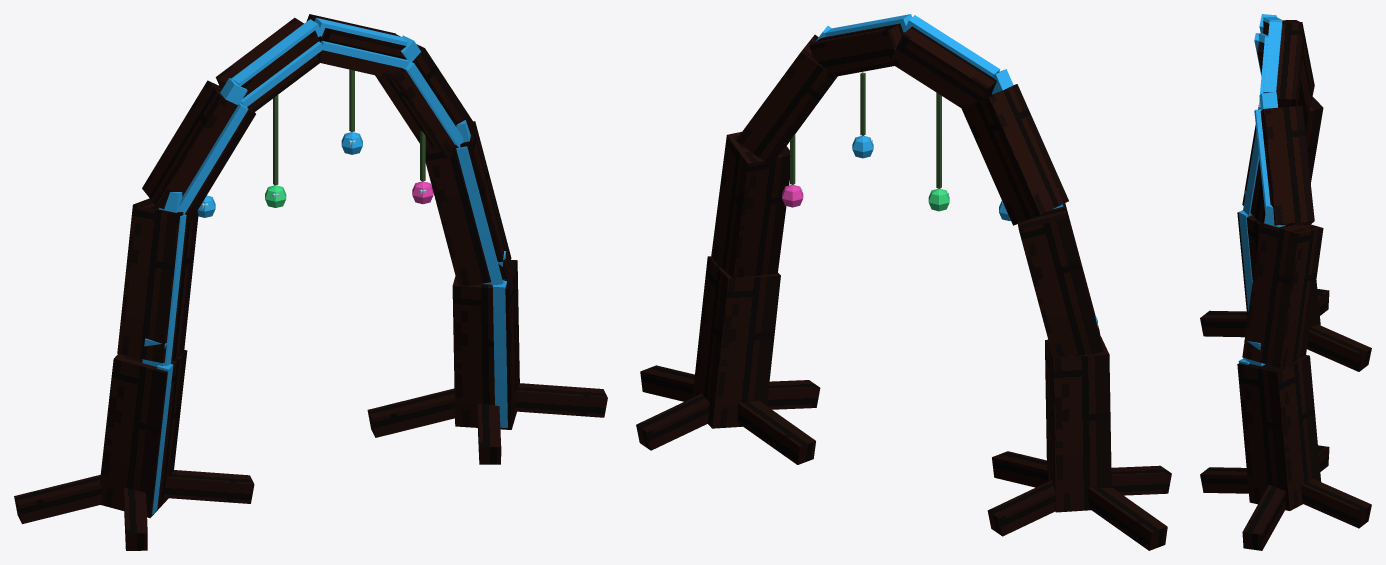
The model's file is glowroot_arch.glb.
3 renders of one model, left to right at view 1: azimuth 30°, elevation 25°; view 2: azimuth 150°, elevation 25°; view 3: azimuth 270°, elevation 25°, orthographic. The views are drawn at different scales.
Visible parts, largest first — view 1: glowroot_arch; view 2: glowroot_arch; view 3: glowroot_arch.
Part boxes in pixels (bbox=[...]): glowroot_arch: bbox=[14, 14, 607, 550]; glowroot_arch: bbox=[636, 14, 1171, 550]; glowroot_arch: bbox=[1200, 14, 1371, 550].
Bounding box in the file's own units: 4.73 × 3.65 × 1.39.
3 materials, 1 textured.
